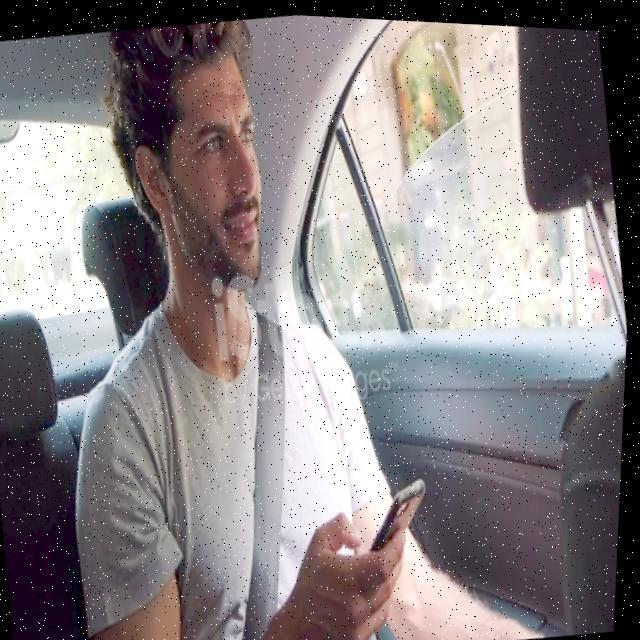PhoneCall: (362, 468, 438, 556)
